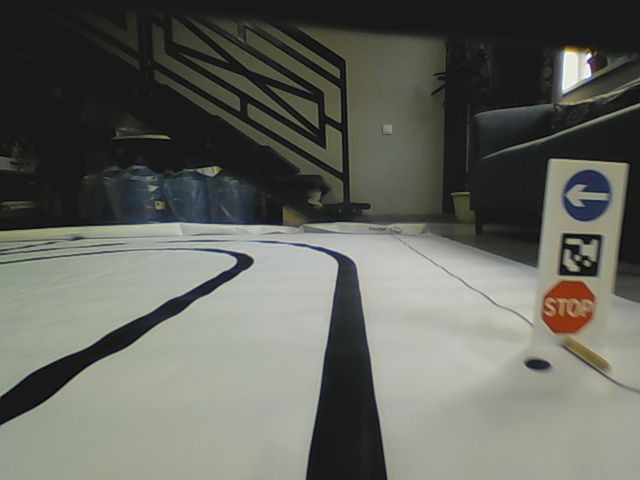Stop: (540, 281, 599, 335)
